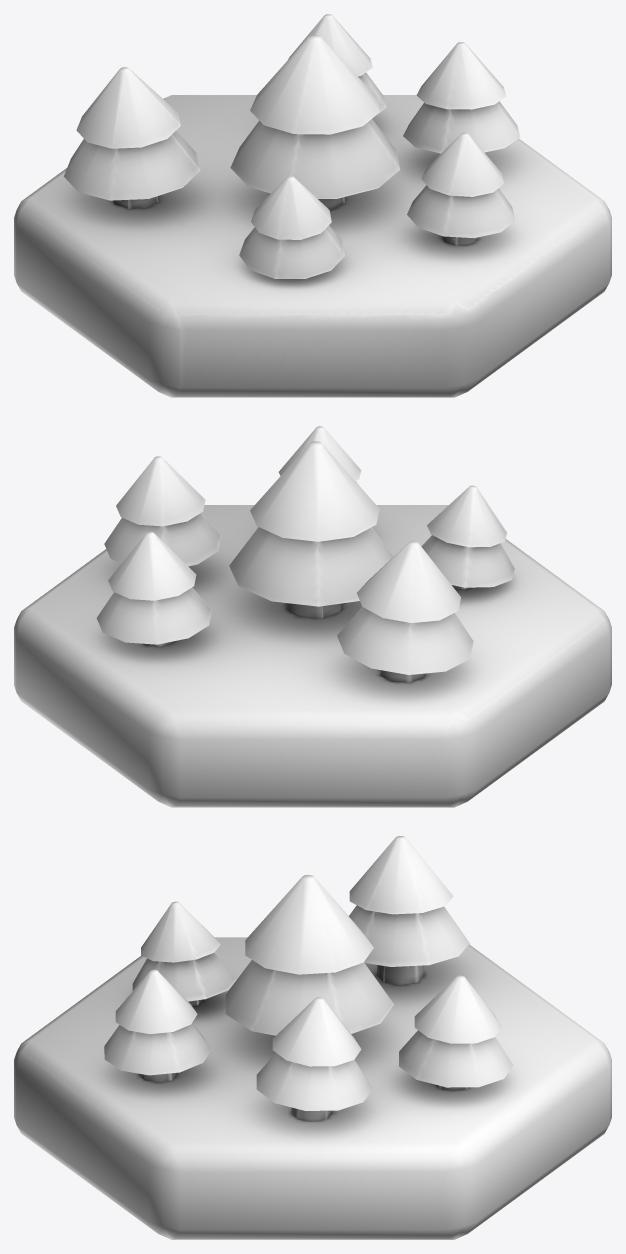
Rendered from 1_forest_bake.dae.
The picture shows the model from 3 angles, top to bottom: view 1: azimuth 30°, elevation 25°; view 2: azimuth 150°, elevation 25°; view 3: azimuth 270°, elevation 25°; orthographic projection.
Parts seen in each view (by area): view 1: las.001; view 2: las.001; view 3: las.001.
Part boxes in pixels (<box>): las.001: <box>14,14,611,397</box>; las.001: <box>14,426,611,807</box>; las.001: <box>14,836,611,1239</box>.
Size of the model in its own units: 1 by 1.13 by 0.5397.
